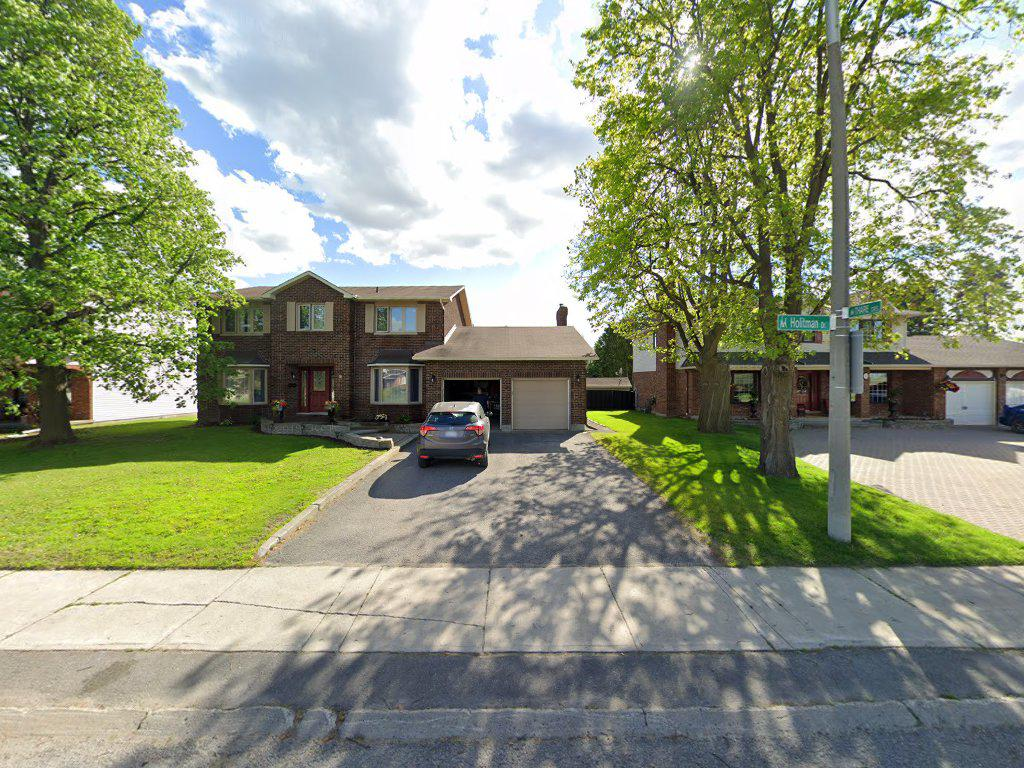trunk: (758, 326, 803, 489)
